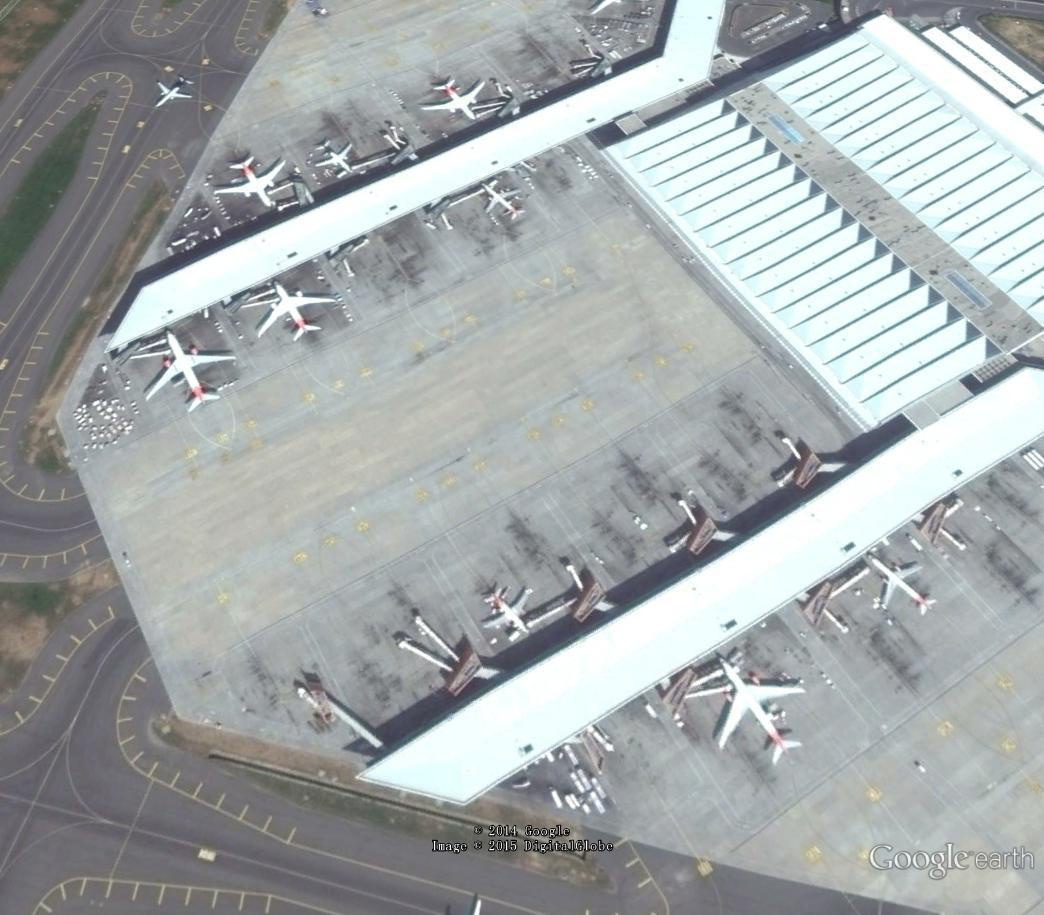aircraft: (714, 654, 808, 769), (142, 325, 241, 415), (253, 274, 342, 346), (862, 550, 942, 618), (210, 151, 289, 214), (478, 580, 540, 642), (415, 76, 489, 124), (478, 180, 529, 223), (312, 136, 358, 178), (150, 76, 201, 111)
